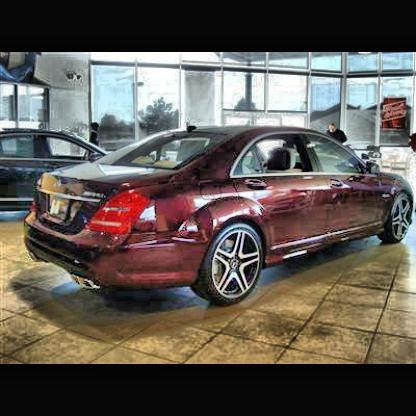Mercedes-Benz S-Class Sedan 2012: (24, 126, 415, 305)
